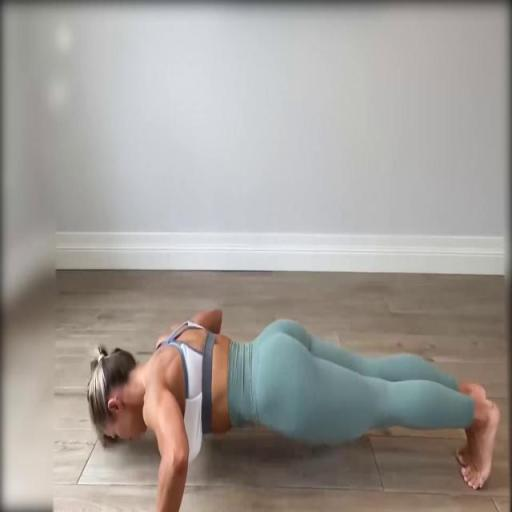Normal_BrenchPress: (85, 308, 503, 509)
